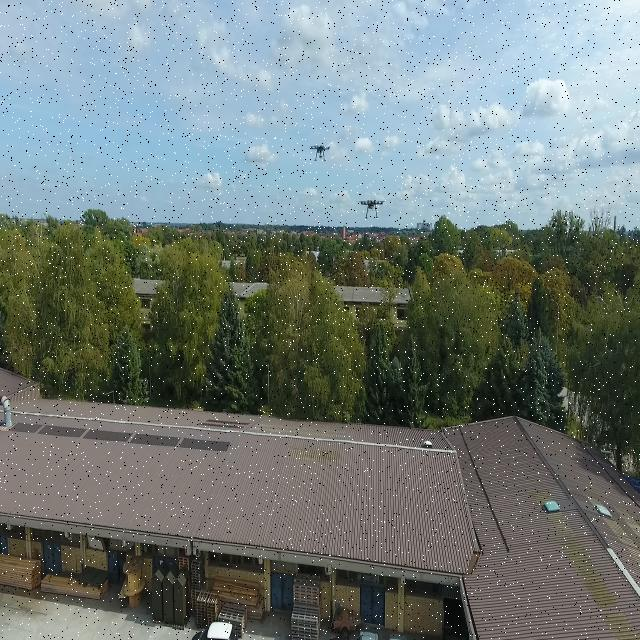UAV: (351, 192, 393, 220), (306, 138, 337, 170)
